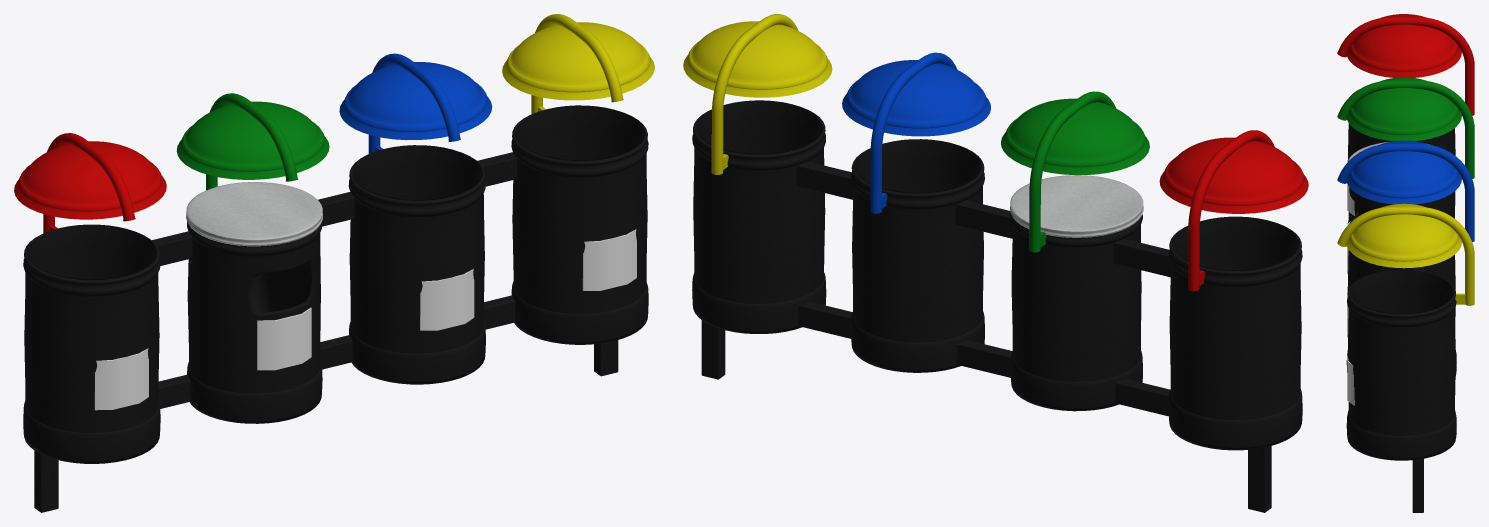
Rendered from RecycleBin.fbx.
3 renders of one model, left to right at view 1: azimuth 30°, elevation 25°; view 2: azimuth 150°, elevation 25°; view 3: azimuth 270°, elevation 25°, orthographic. The views are drawn at different scales.
Parts seen in each view (by area): view 1: polySurface13; view 2: polySurface13; view 3: polySurface13.
Boxes of the visible parts, x1,y1,x2,y2 form: polySurface13: (14, 14, 654, 512); polySurface13: (683, 14, 1308, 512); polySurface13: (1337, 14, 1474, 512).
Size of the model in its own units: 421 by 234 by 101.
Materials: 10 (2 with a texture image).
